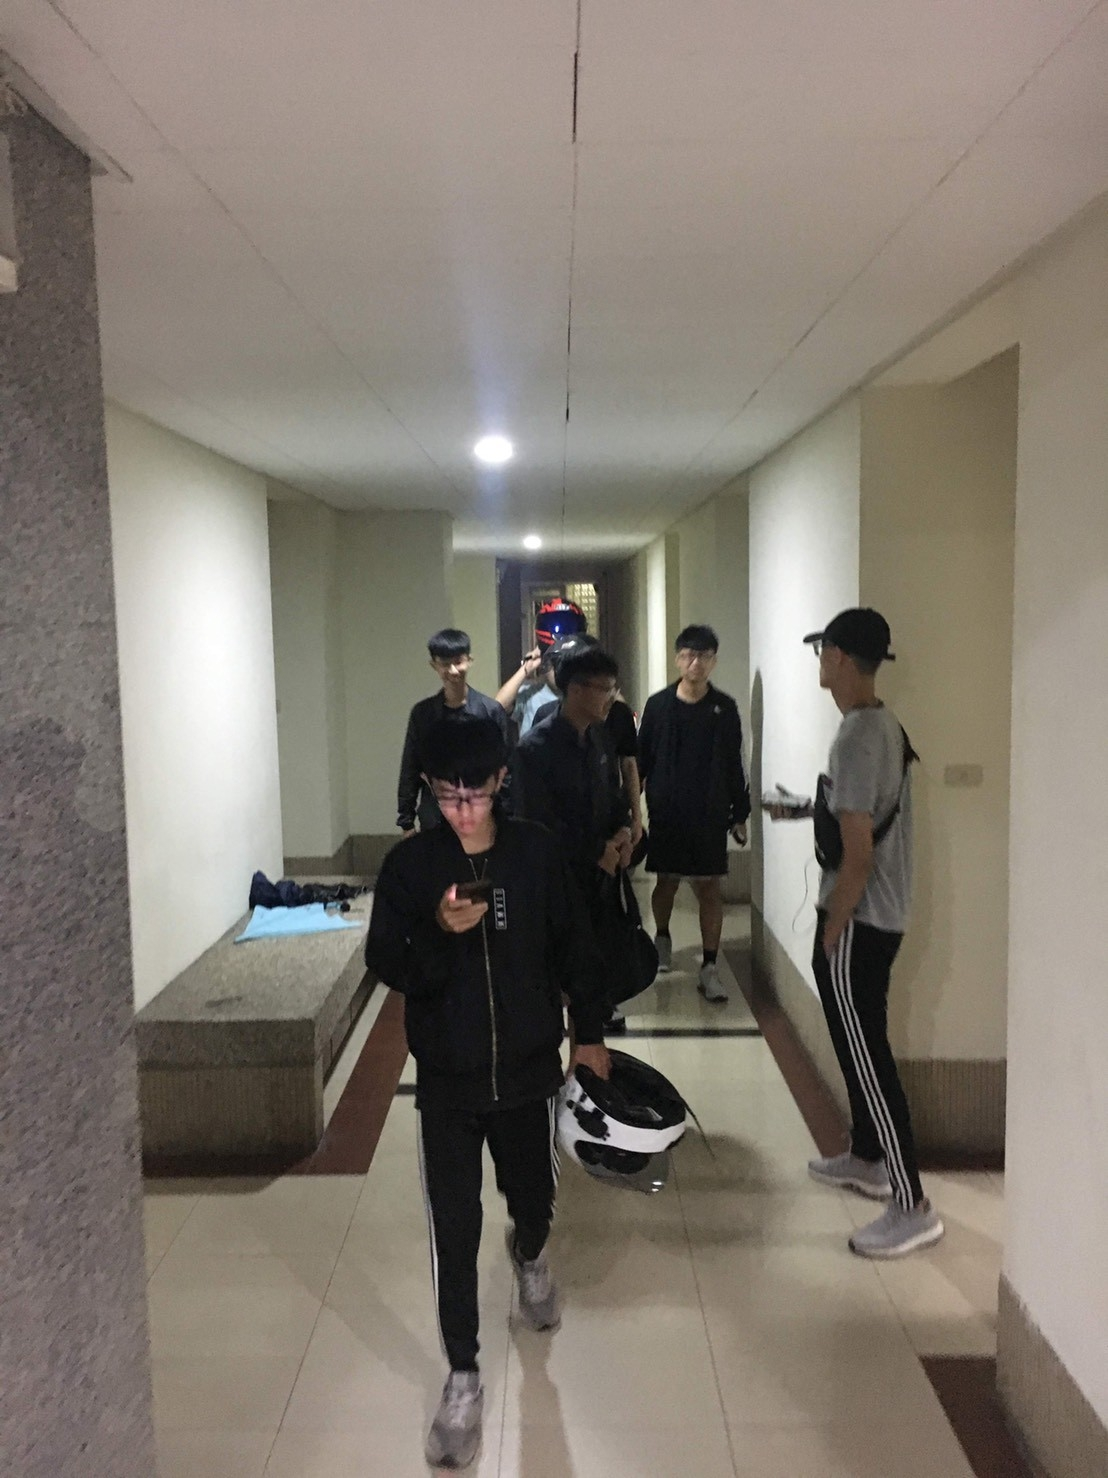people: (414, 721, 550, 1395), (802, 602, 940, 1252), (538, 650, 659, 1045), (645, 628, 740, 1004), (402, 623, 512, 826), (517, 588, 590, 745)
